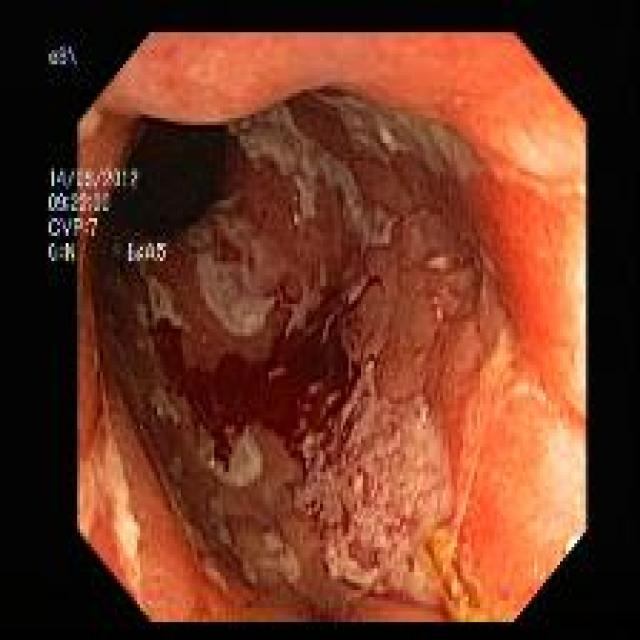ulcerative-colitis: (59, 33, 586, 623)
